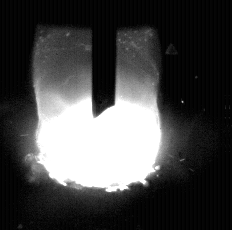arame: (93, 0, 116, 111)
poca: (38, 0, 159, 230)
